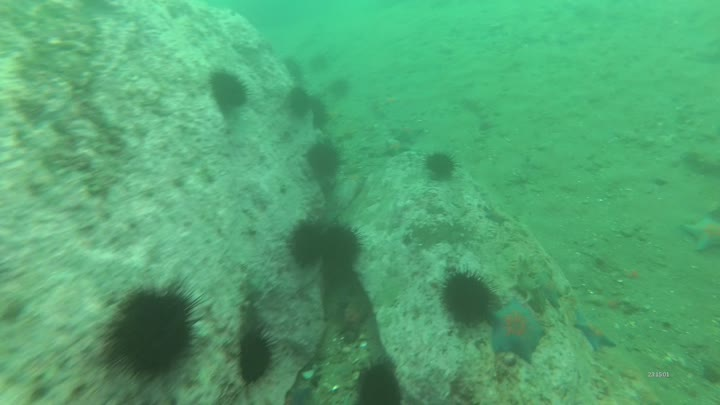echinus: (99, 276, 206, 380), (437, 265, 502, 331), (318, 223, 366, 274), (355, 356, 404, 405), (235, 328, 277, 384), (289, 218, 324, 269), (210, 67, 248, 113), (306, 140, 343, 176), (424, 152, 457, 179), (310, 98, 332, 130), (280, 58, 305, 83), (289, 88, 310, 117), (328, 80, 351, 100), (314, 53, 332, 75)
starfish: (487, 300, 546, 362), (572, 309, 615, 349), (682, 217, 720, 250), (534, 269, 563, 307)
